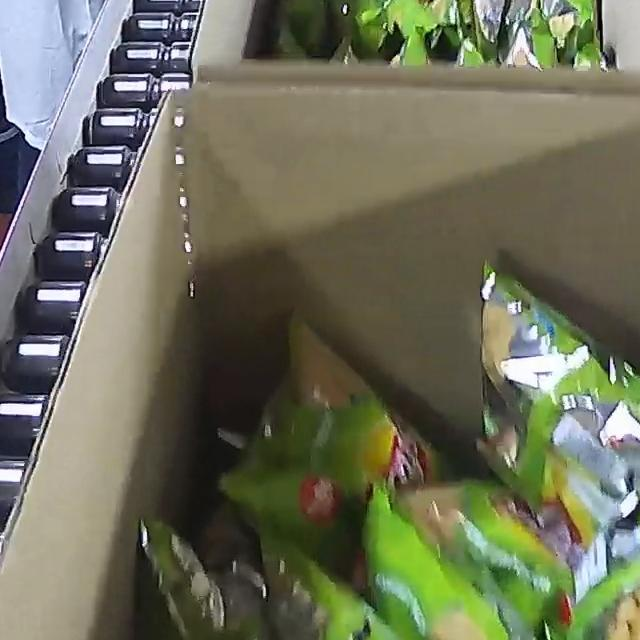yogurt: (53, 262, 640, 640), (290, 0, 640, 105)
